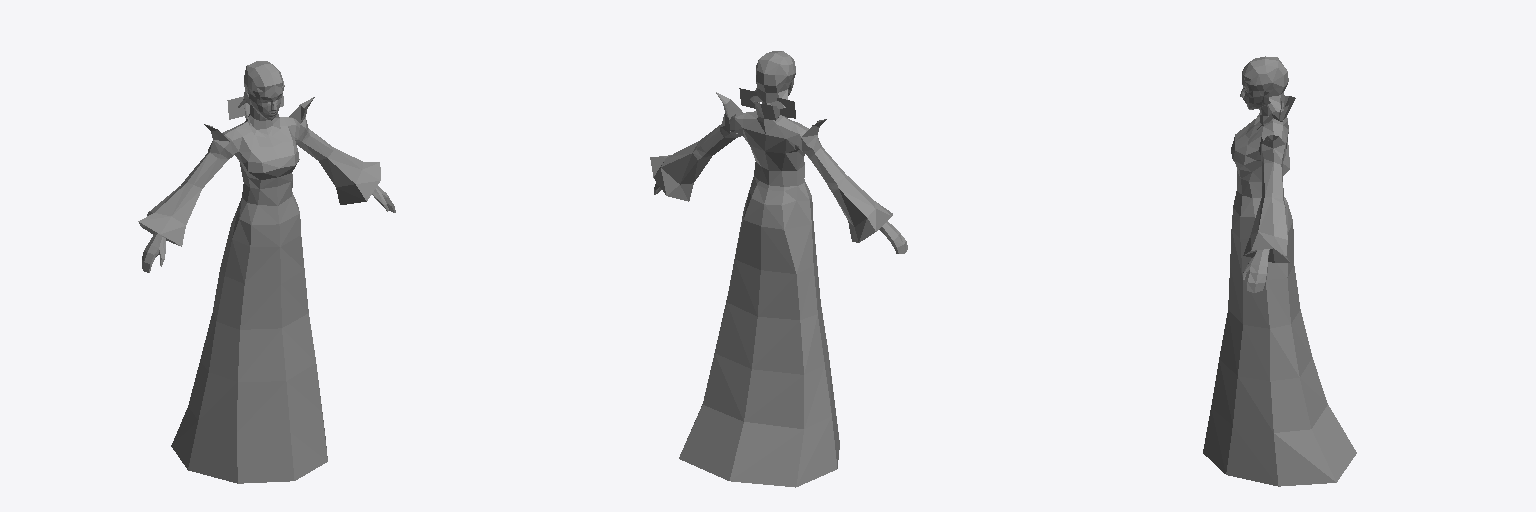
The model's file is Japanese_girl.obj.
3 views of the same model, side by side, from view 1: azimuth 30°, elevation 25°; view 2: azimuth 150°, elevation 25°; view 3: azimuth 270°, elevation 25° (orthographic).
Visible parts, largest first — view 1: Element_Client-1b6a40a0.obj; view 2: Element_Client-1b6a40a0.obj; view 3: Element_Client-1b6a40a0.obj.
Part boxes in pixels (x1,y1,x2,y2): Element_Client-1b6a40a0.obj: (138, 61, 395, 483); Element_Client-1b6a40a0.obj: (650, 51, 907, 487); Element_Client-1b6a40a0.obj: (1203, 56, 1356, 486).
Size of the model in its own units: 12.13 by 18.26 by 6.48.